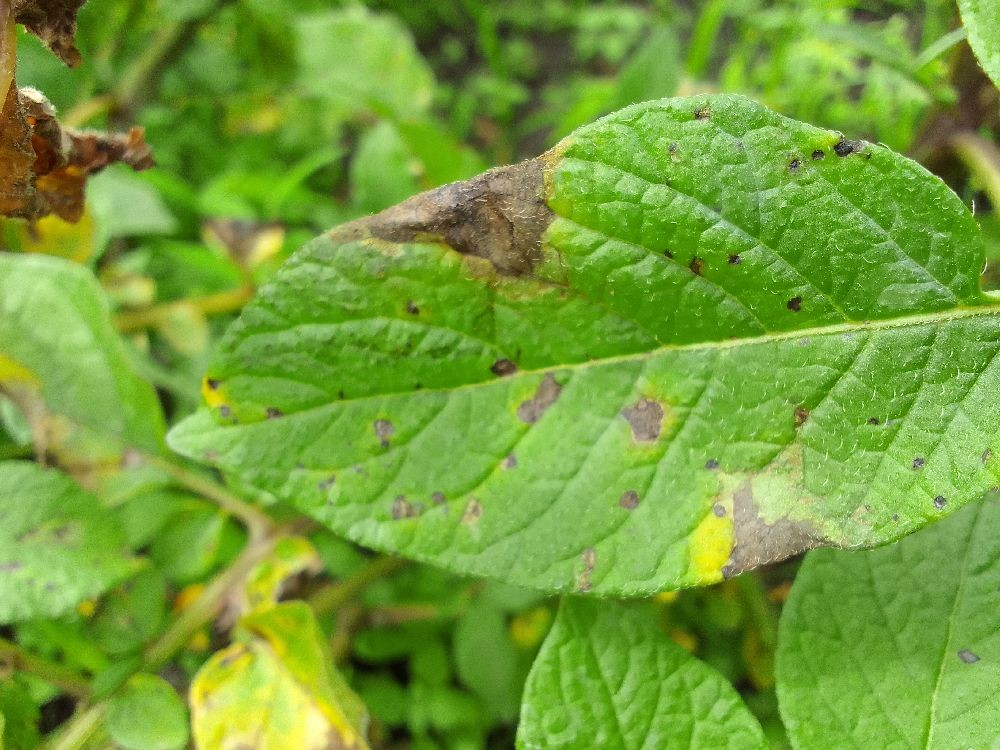late_blight: (0, 0, 238, 282), (316, 100, 570, 300), (885, 18, 1000, 237), (698, 507, 827, 626)
